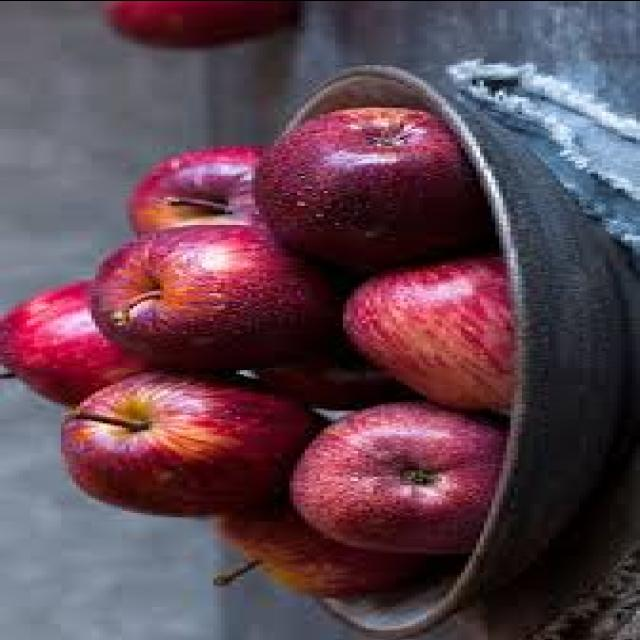apple: (80, 218, 328, 362)
